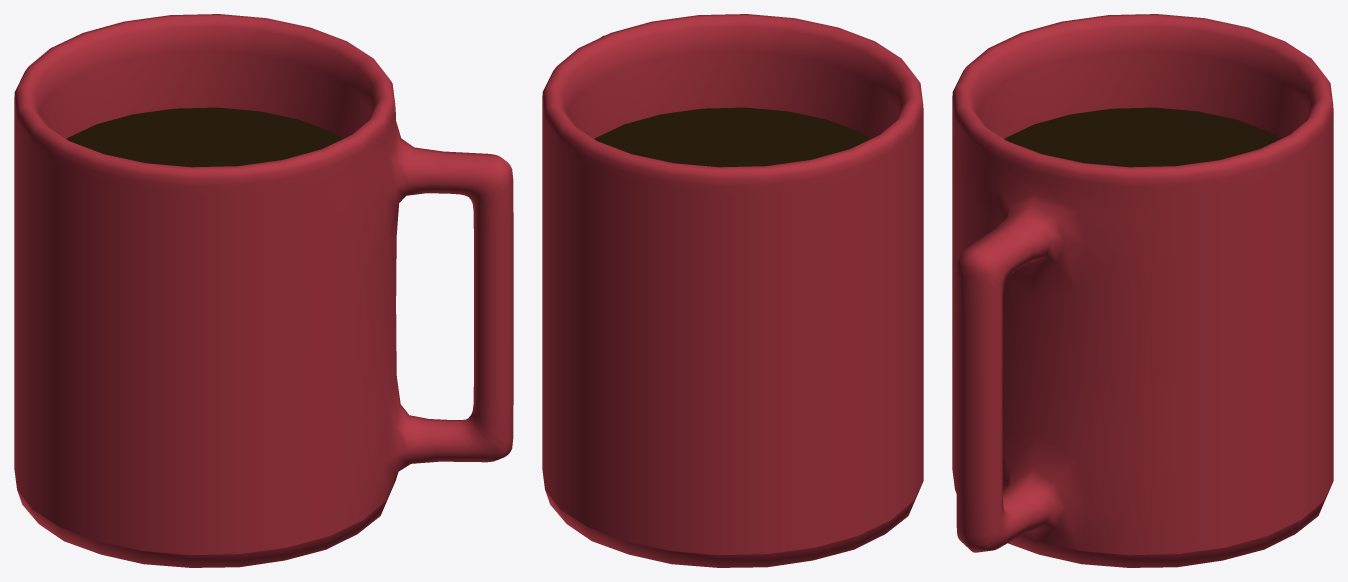
Rendered from mug.fbx.
3 views of the same model, side by side, from view 1: azimuth 30°, elevation 25°; view 2: azimuth 150°, elevation 25°; view 3: azimuth 270°, elevation 25° (orthographic).
Visible parts, largest first — view 1: Mug, water; view 2: Mug, water; view 3: Mug, water.
Part boxes in pixels (x1,y1,x2,y2): Mug: (14,14,513,567); water: (66,107,342,167); Mug: (542,14,923,567); water: (594,107,870,167); Mug: (952,14,1333,567); water: (1004,107,1280,167).
Size of the model in its own units: 0.194 by 0.2299 by 0.2324.
